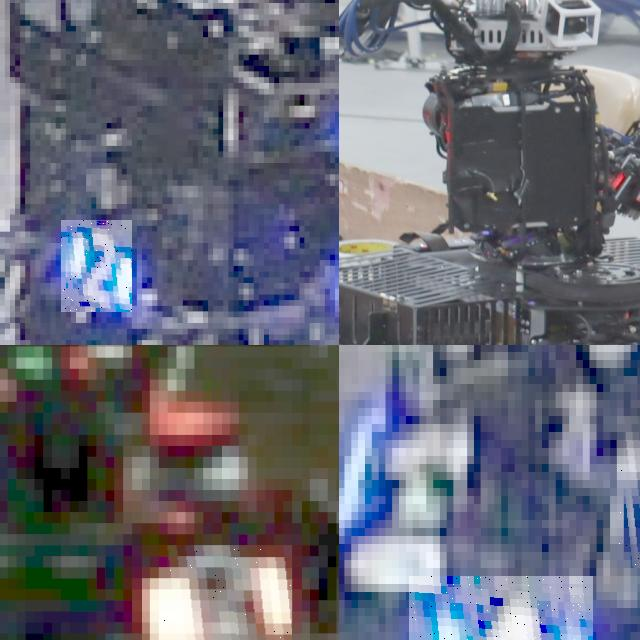B2: (61, 220, 132, 312)
B4: (409, 576, 593, 640)
Rs: (158, 545, 292, 640)
